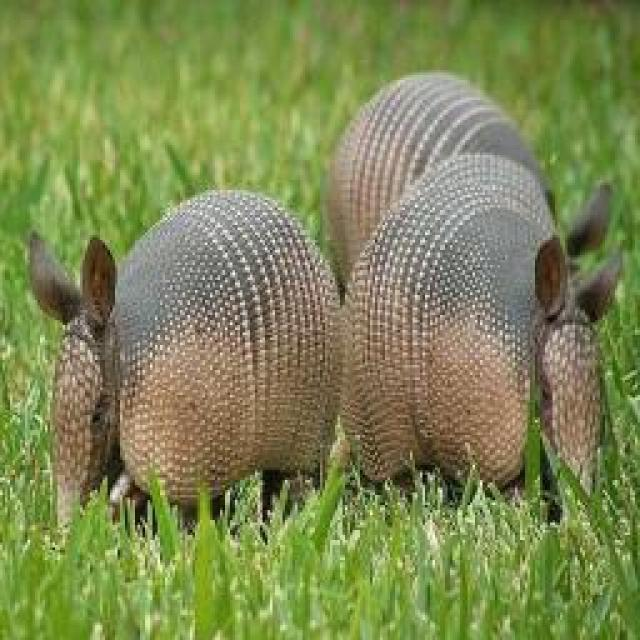not_pig: (322, 67, 622, 515), (25, 185, 343, 543)
